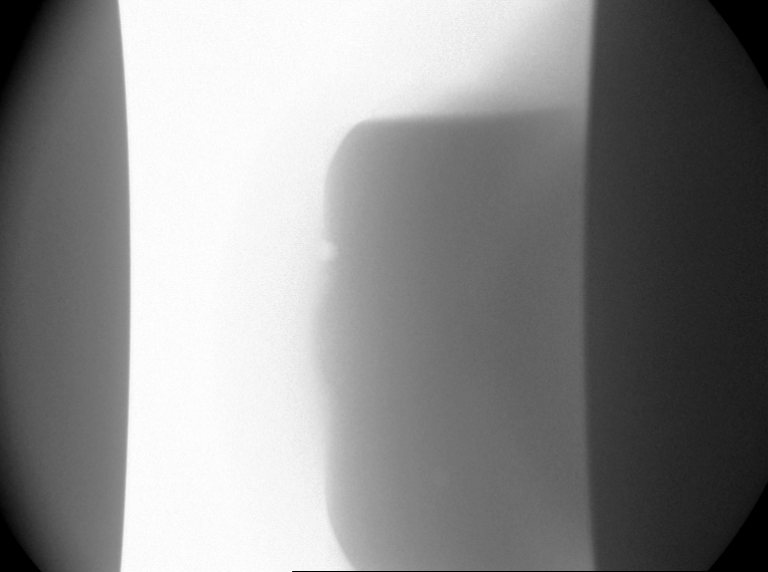defect: (316, 239, 342, 267)
